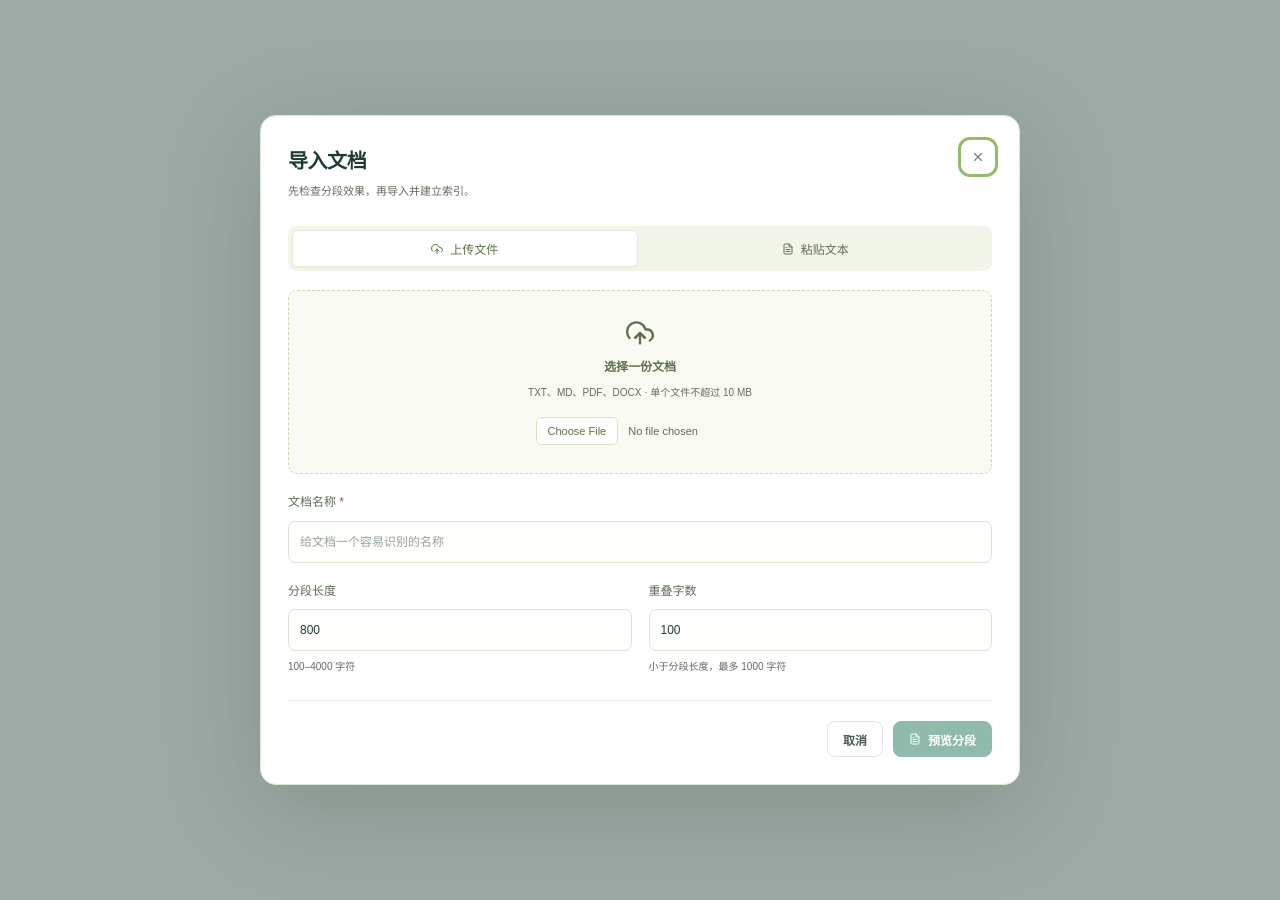
Test case: 索引失败不显示导入成功，保留重试与错误反馈
Step 1. Click the button "粘贴文本" → click(815, 249), box [642,230,988,267]
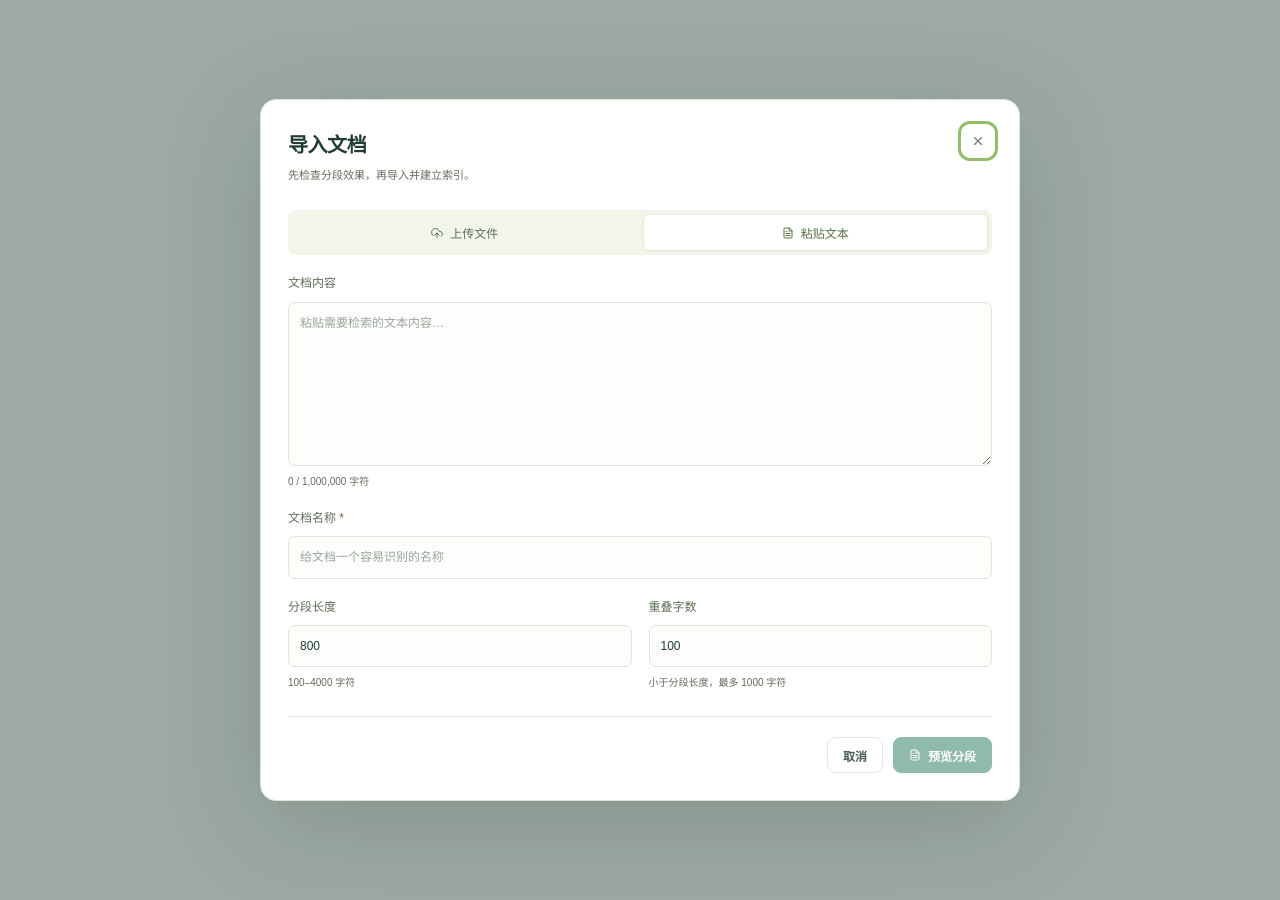
Step 2. Type "说明" into the field labelled "文档名称" → (640, 558), box [288,536,992,579]
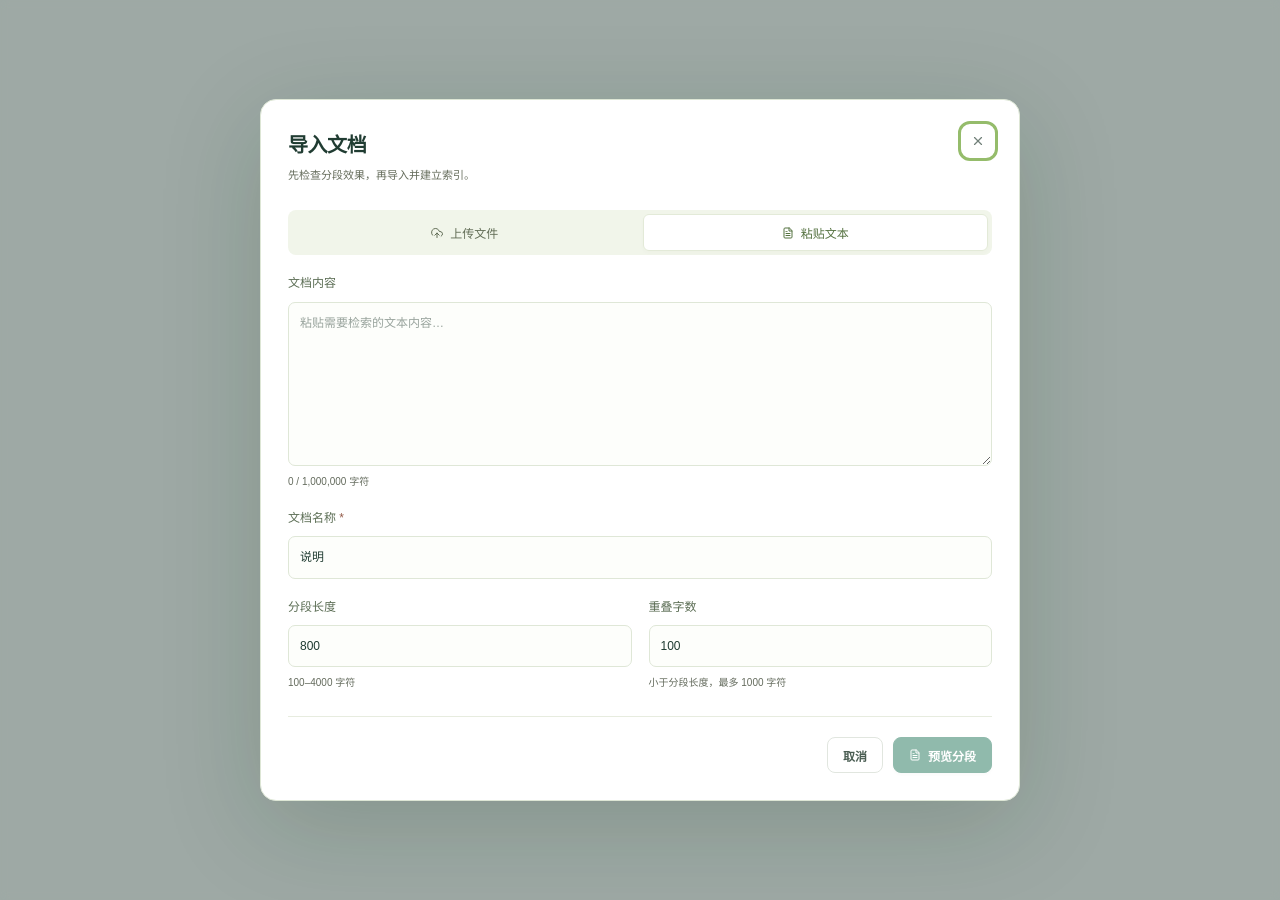
Step 3. Type "文档" into the text box labelled "文档内容" → (640, 384), box [288,302,992,466]
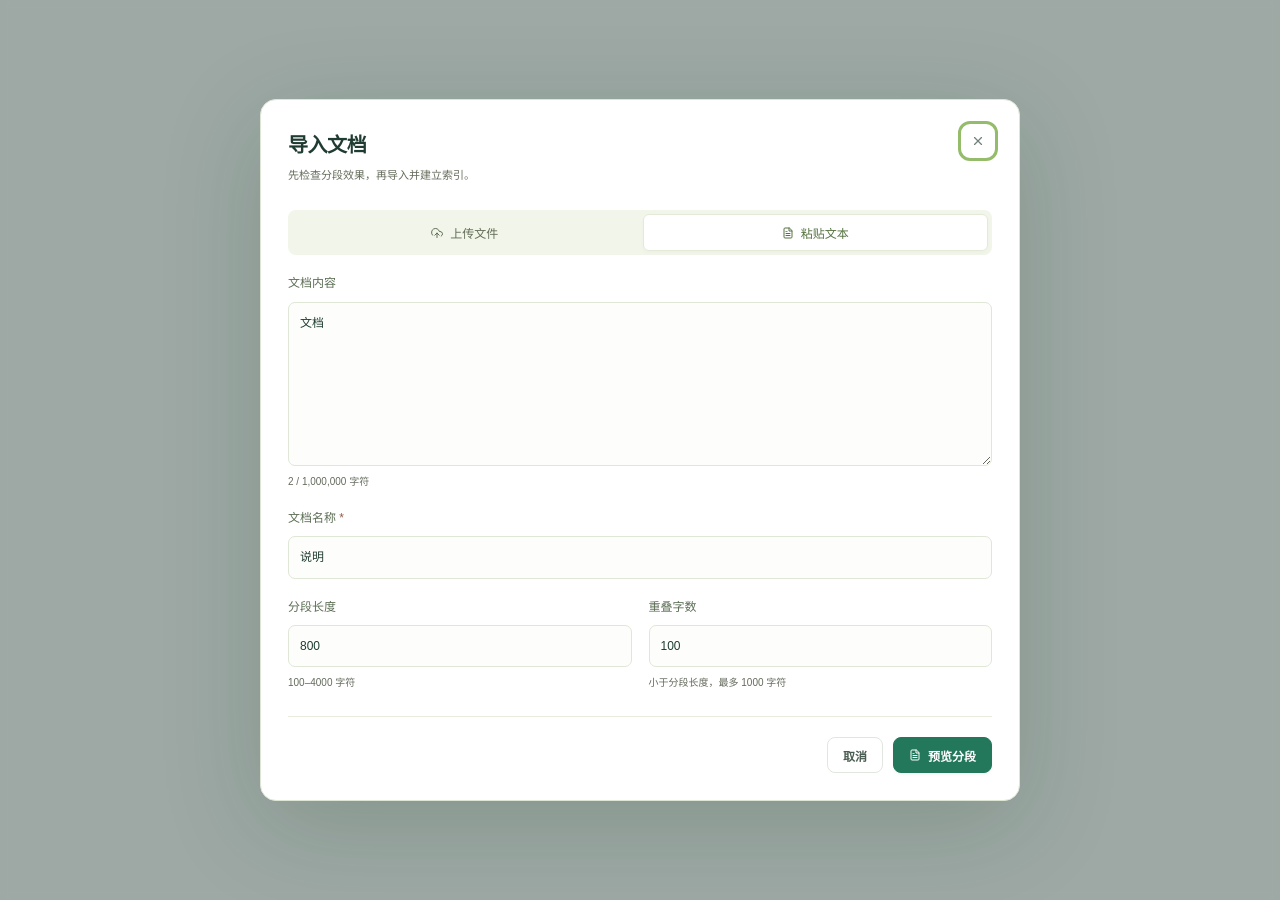
Step 4. Click the button "预览分段" → click(942, 755), box [893,737,992,773]
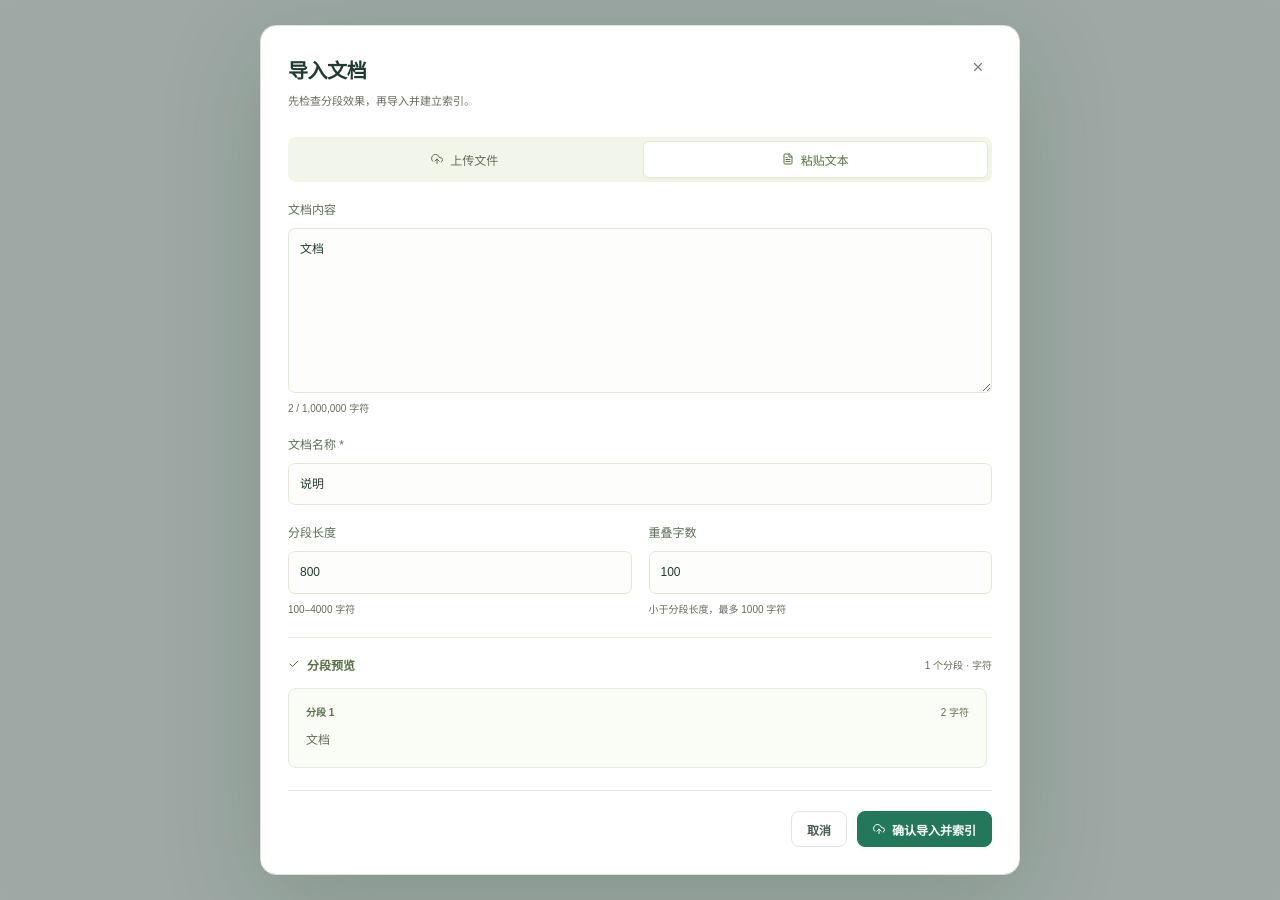
Step 5. Click the button "确认导入并索引" → click(924, 829), box [857,811,992,847]
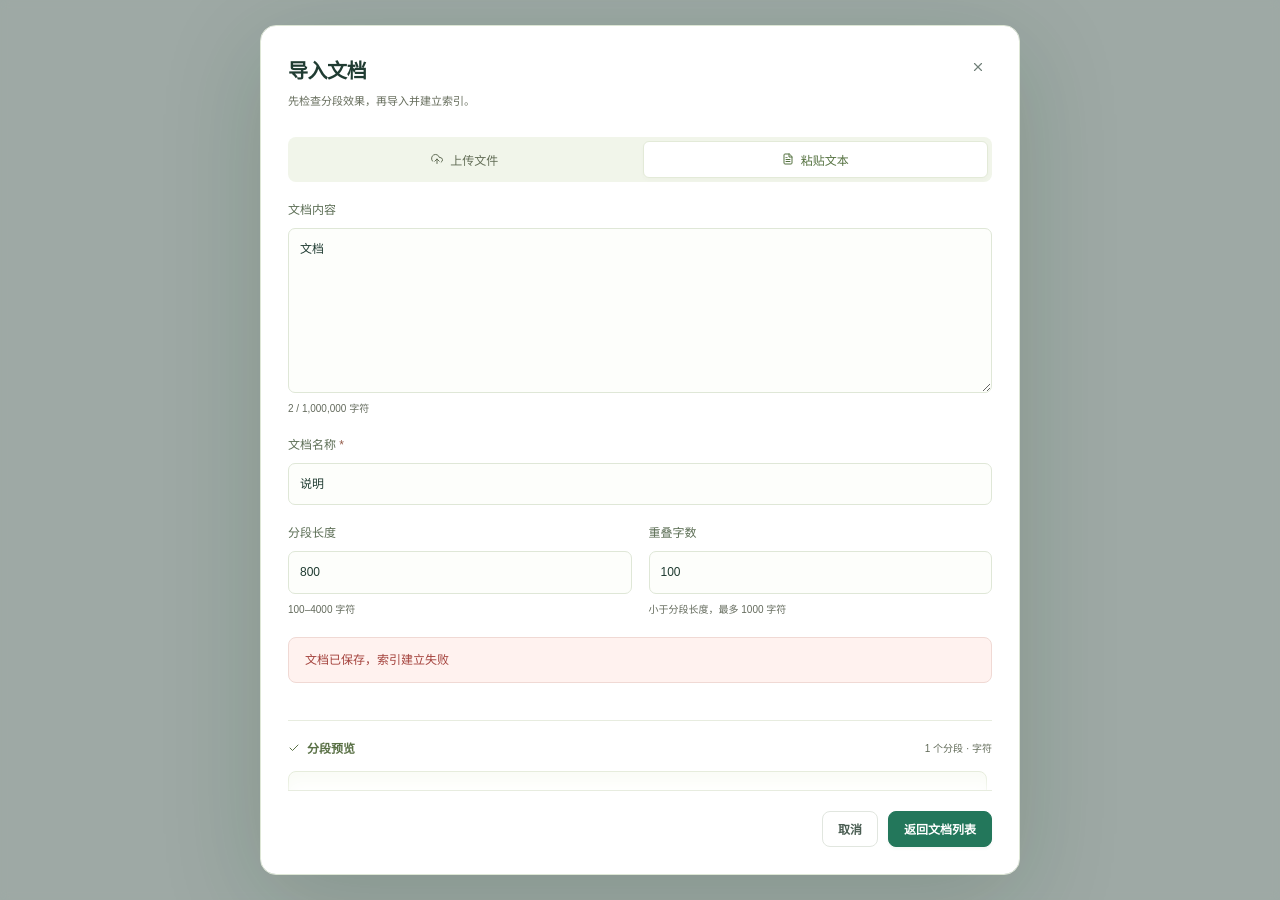
Now the message shows "索引建立失败", box [305,653,449,667]
Now the button "返回文档列表" is shown, box [888,811,992,847]
Now the button "确认导入并索引" is gone
